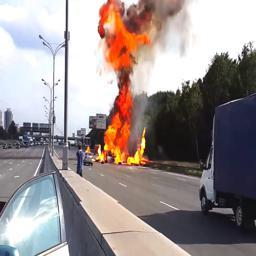fire: (95, 0, 149, 164)
